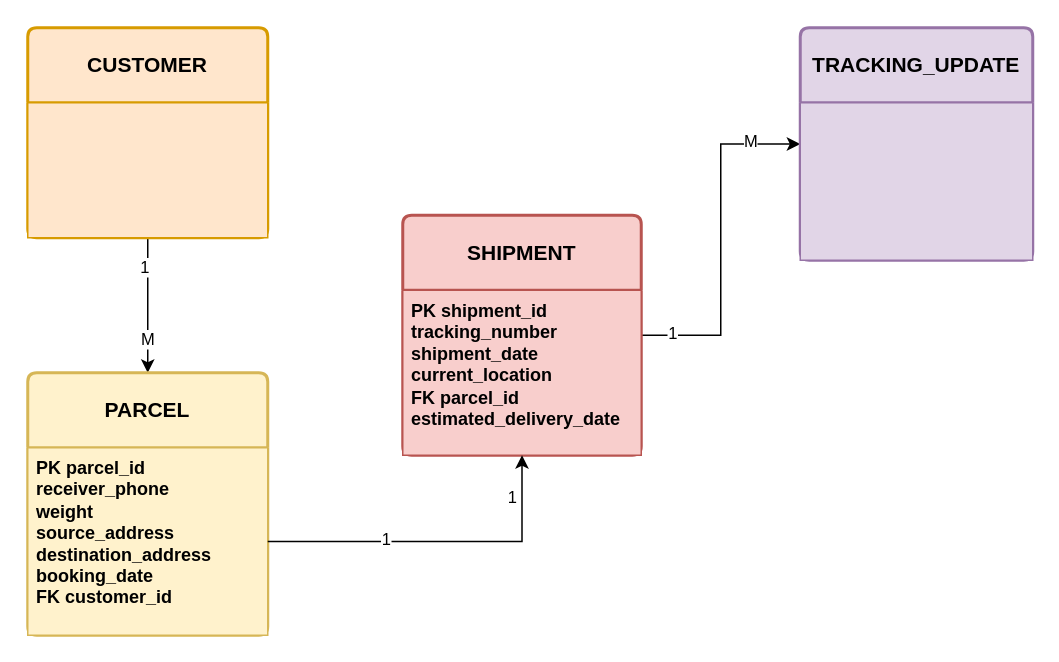
Image size: 1059x662. Some labels were removed from this diagram. Each missing label, with the centre of its shape:
"Pk customer_id customer_name email phone address" belongs at point 147,169.
"update_id PK shipment_id FK delivery_status location remarks updated_Time" belongs at point 916,180.
